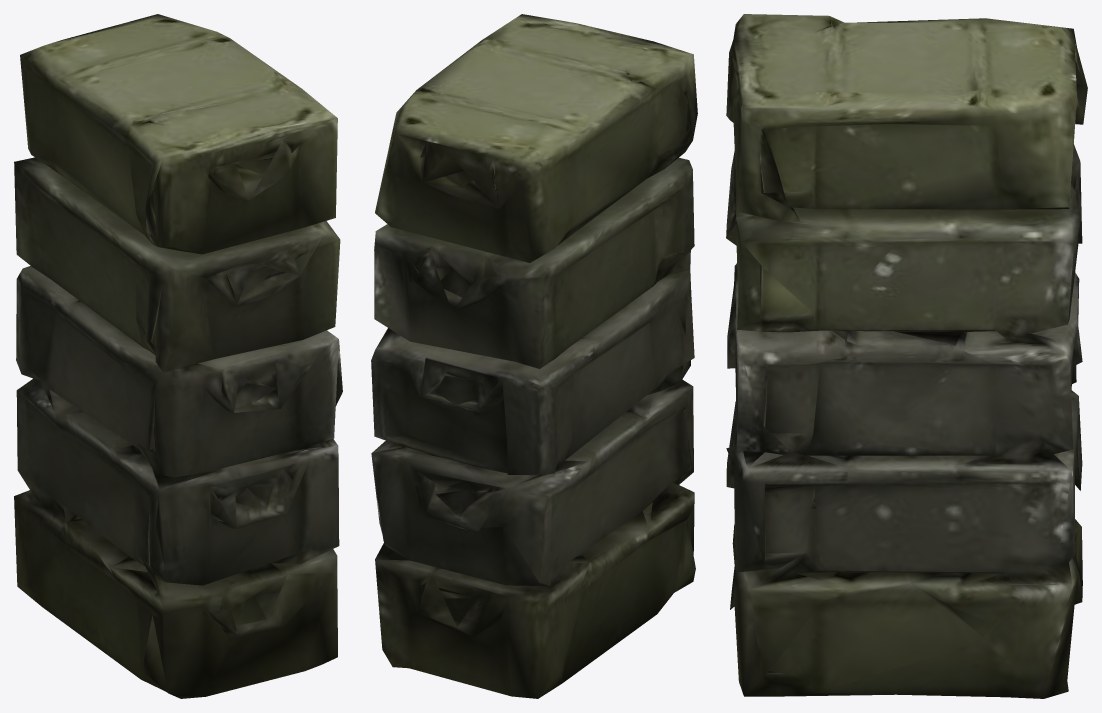
The model's file is e_ammo.glb.
3 views of the same model, side by side, from view 1: azimuth 30°, elevation 25°; view 2: azimuth 150°, elevation 25°; view 3: azimuth 270°, elevation 25° (orthographic). The views are drawn at different scales.
Visible parts, largest first — view 1: tripo_node_dfdeda30-03fd-45b0-aff6-c910c98fa4ab; view 2: tripo_node_dfdeda30-03fd-45b0-aff6-c910c98fa4ab; view 3: tripo_node_dfdeda30-03fd-45b0-aff6-c910c98fa4ab.
Boxes of the visible parts, left/top/right/bottom form: tripo_node_dfdeda30-03fd-45b0-aff6-c910c98fa4ab: left=14, top=14, right=342, bottom=698; tripo_node_dfdeda30-03fd-45b0-aff6-c910c98fa4ab: left=371, top=14, right=697, bottom=698; tripo_node_dfdeda30-03fd-45b0-aff6-c910c98fa4ab: left=726, top=14, right=1087, bottom=698.
Bounding box in the file's own units: 0.3735 × 1 × 0.5393.
Materials: 1 (1 with a texture image).
